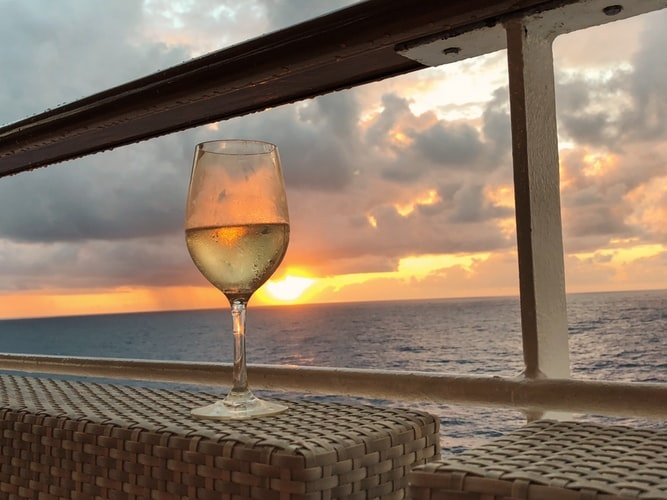whiskey: (186, 141, 289, 419)
